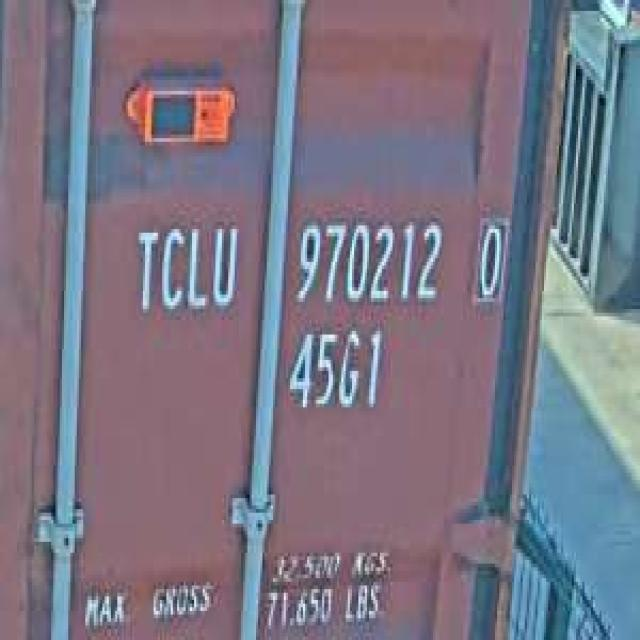dv: (469, 207, 510, 309)
owner: (130, 211, 241, 324)
serial: (288, 207, 446, 313)
size: (284, 320, 384, 418)
